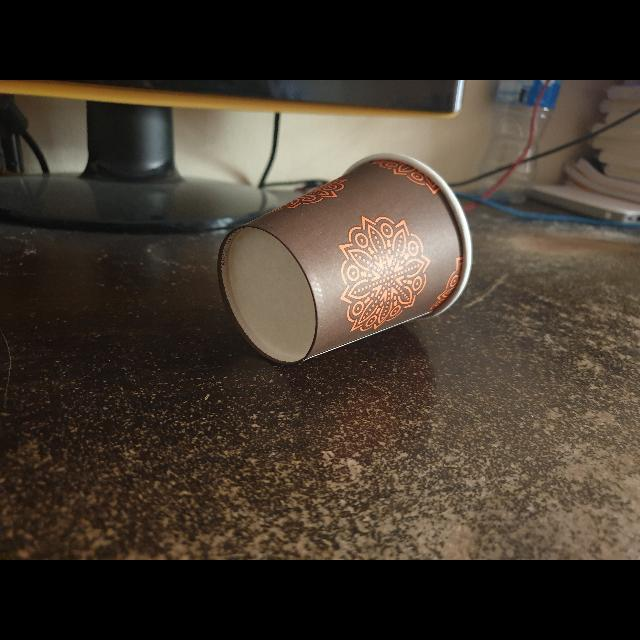trash: (206, 144, 478, 372)
